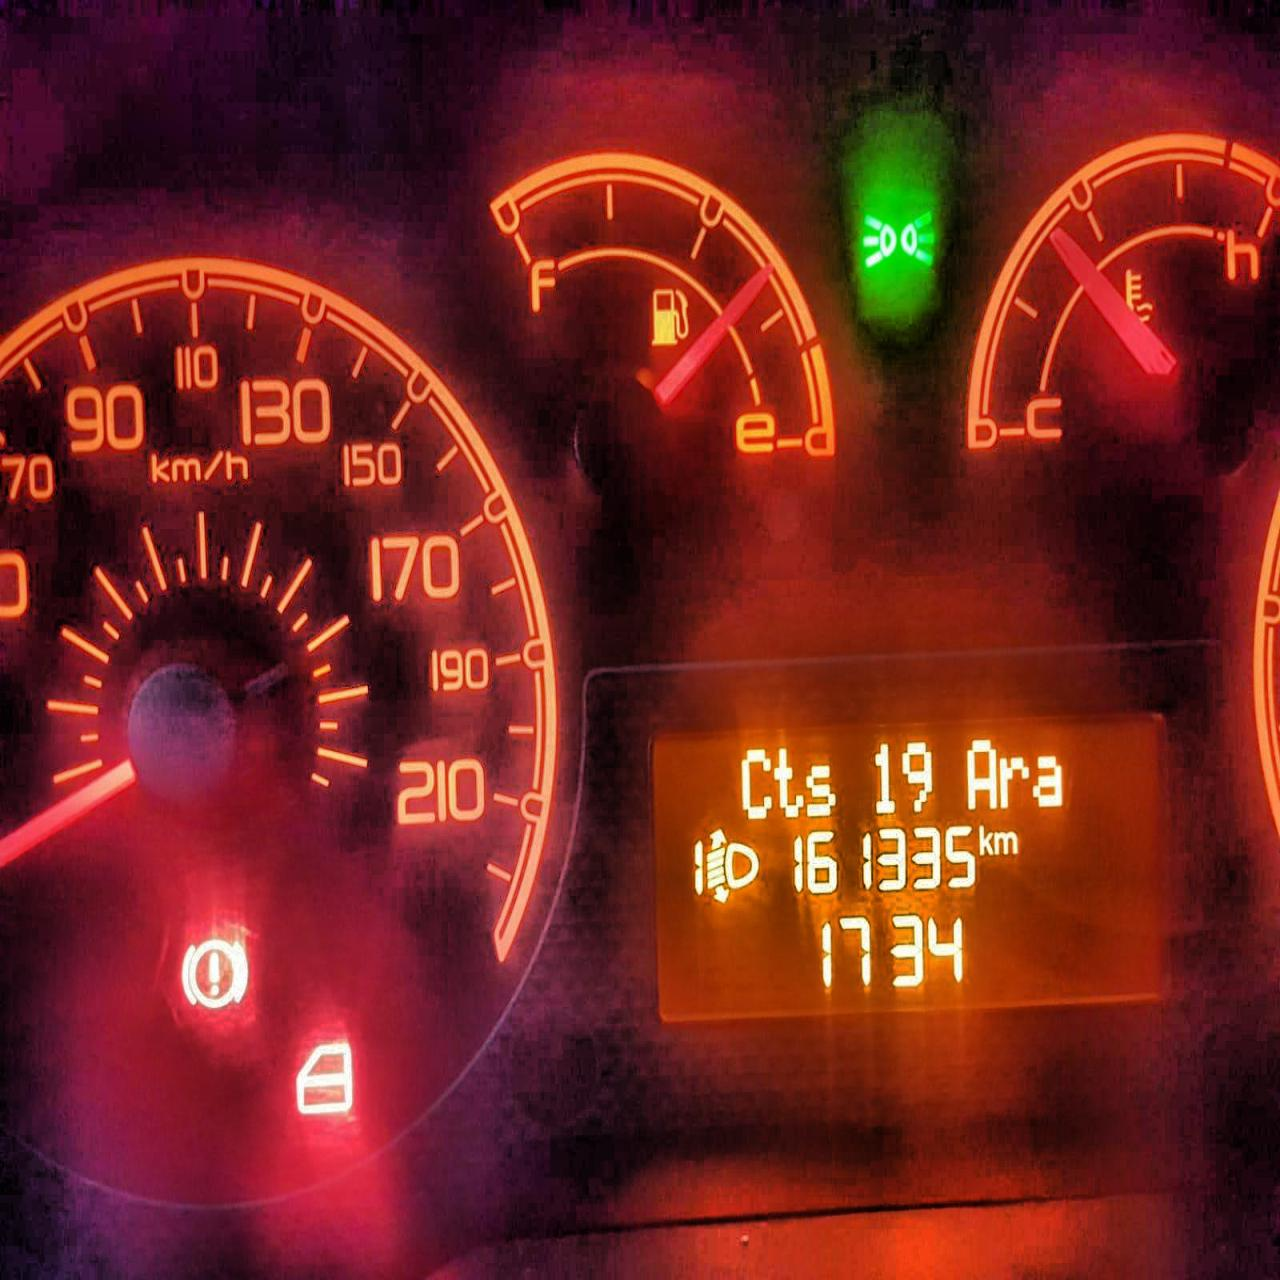1: (871, 735, 896, 818), (818, 914, 836, 999), (690, 830, 704, 899), (860, 828, 873, 894), (790, 829, 803, 893)
3: (891, 908, 924, 988), (912, 822, 940, 890), (878, 825, 906, 892)
4: (928, 913, 964, 982)
5: (942, 823, 975, 890)
6: (805, 828, 837, 896)
7: (837, 914, 873, 989)
9: (901, 733, 937, 813)
X: (737, 744, 771, 821), (772, 743, 804, 824), (966, 735, 996, 812), (1032, 749, 1067, 810), (805, 760, 838, 818), (999, 753, 1029, 809), (993, 829, 1016, 856), (978, 823, 992, 857)
odometer: (634, 703, 1176, 1039)
